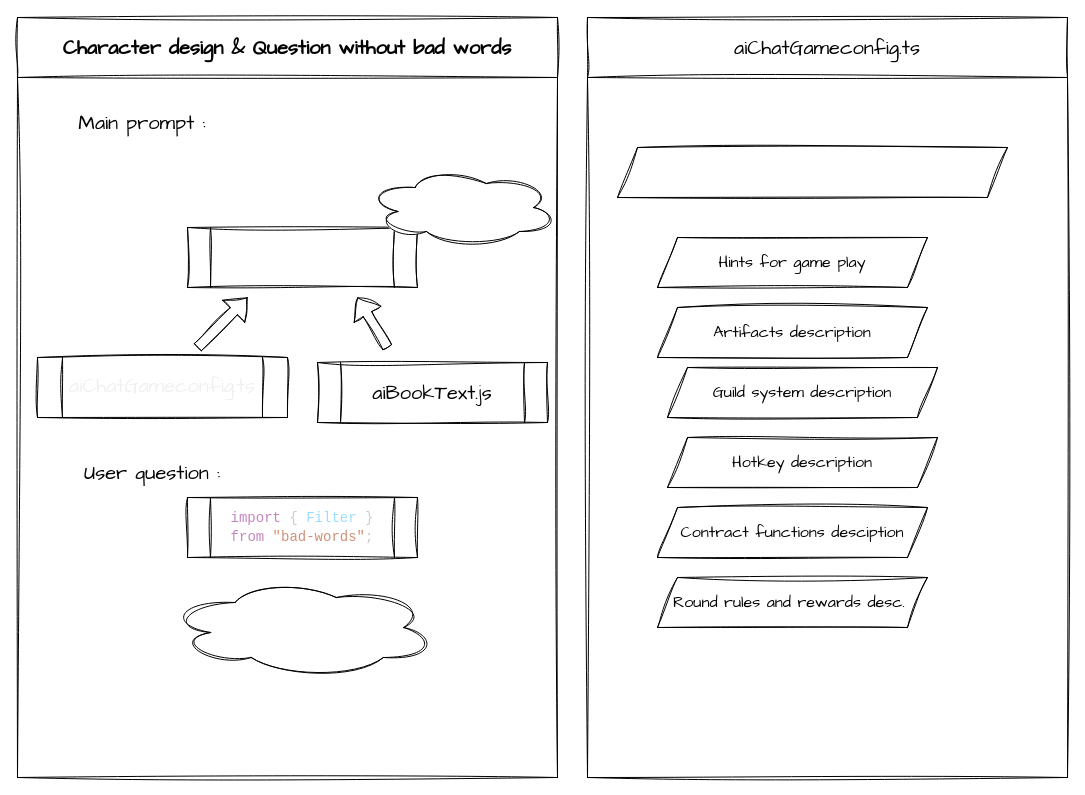
Image size: 1085x795. Some labels were removed from this diagram. The centre of each missing label's shape, as x and y in pixels:
"aiBotCharacter.ts" belongs at (x=302, y=257).
"bad words are as *****" belongs at (x=302, y=627).
"Context & Rules" belongs at (x=462, y=207).
"Game config - Biomes , Space objects , Lvls , Radius," belongs at (x=812, y=172).
